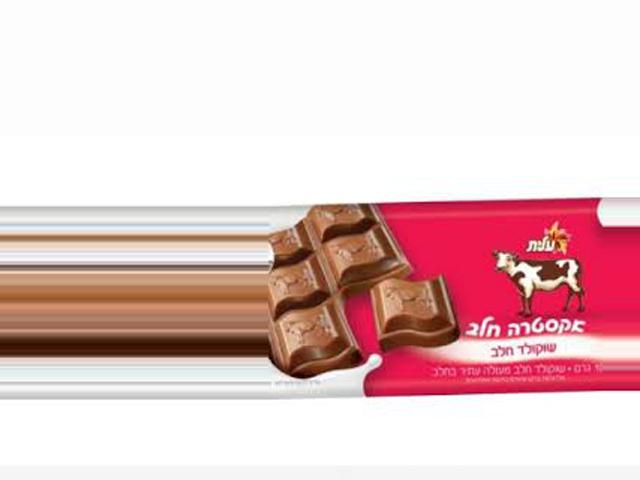chocolate: (268, 203, 604, 398)
